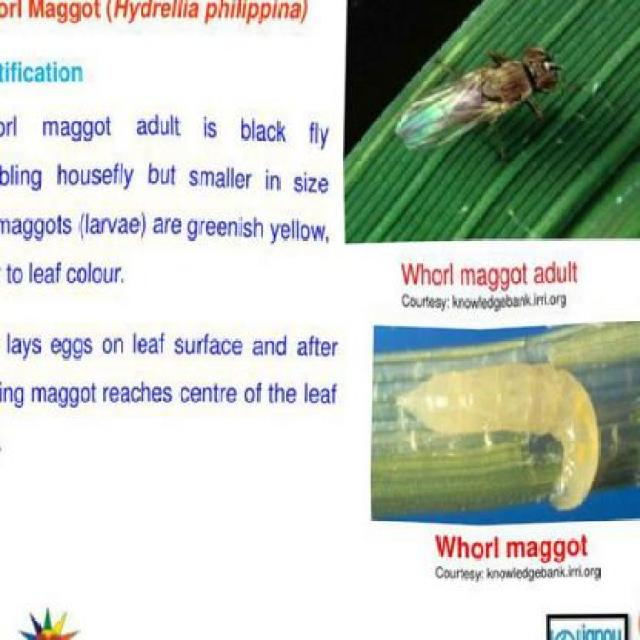whorl-maggot: (389, 354, 611, 518)
